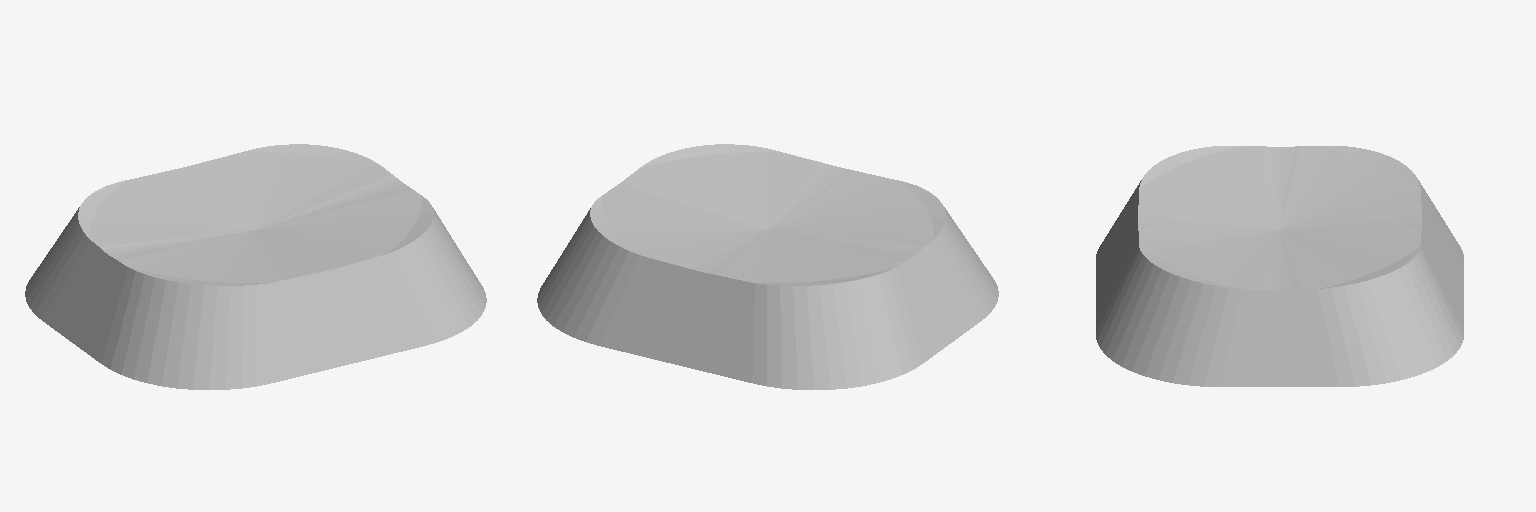
File: original-14.obj
3 views of the same model, side by side, from view 1: azimuth 30°, elevation 25°; view 2: azimuth 150°, elevation 25°; view 3: azimuth 270°, elevation 25° (orthographic).
Visible parts, largest first — view 1: Group14/mesh14/mesh14-geometry#mesh14-geometry; view 2: Group14/mesh14/mesh14-geometry#mesh14-geometry; view 3: Group14/mesh14/mesh14-geometry#mesh14-geometry.
Part boxes in pixels (bbox=[...]): Group14/mesh14/mesh14-geometry#mesh14-geometry: bbox=[25, 144, 486, 389]; Group14/mesh14/mesh14-geometry#mesh14-geometry: bbox=[537, 144, 998, 389]; Group14/mesh14/mesh14-geometry#mesh14-geometry: bbox=[1096, 146, 1463, 386].
Size of the model in its own units: 0.0542 by 0.0116 by 0.0469.